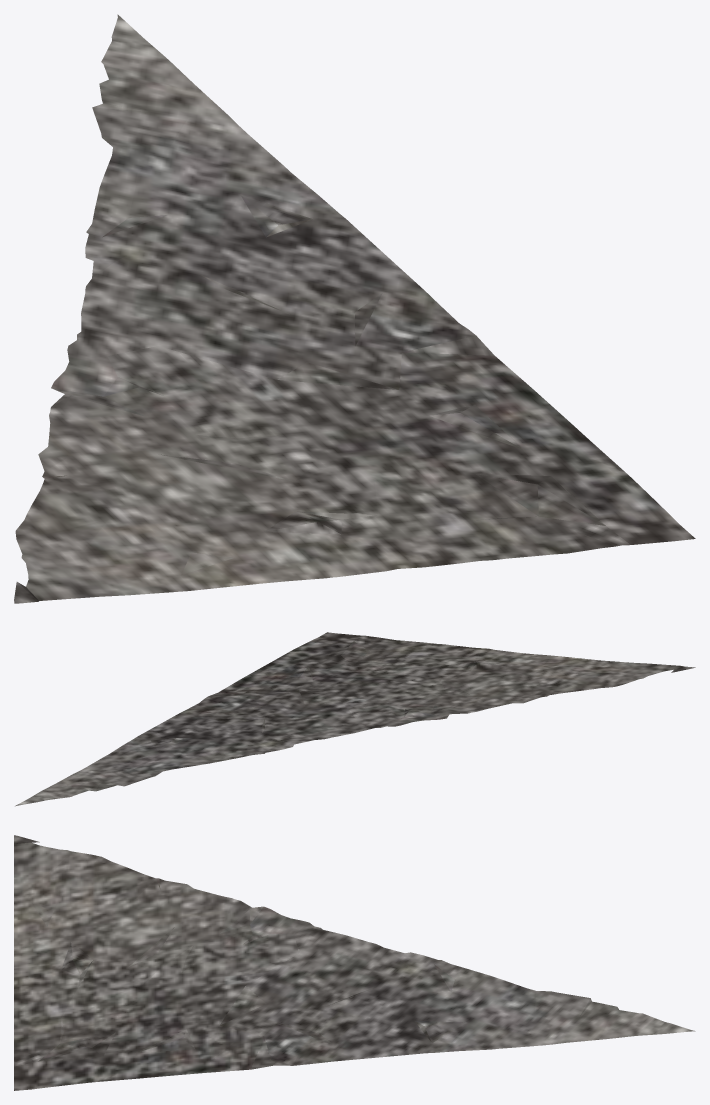
3 renders of one model, top to bottom at view 1: azimuth 30°, elevation 25°; view 2: azimuth 150°, elevation 25°; view 3: azimuth 270°, elevation 25°, orthographic. The views are drawn at different scales.
Bounding box in the file's own units: 0.5415 × 0.077 × 0.796.
Materials: 1 (1 with a texture image).
